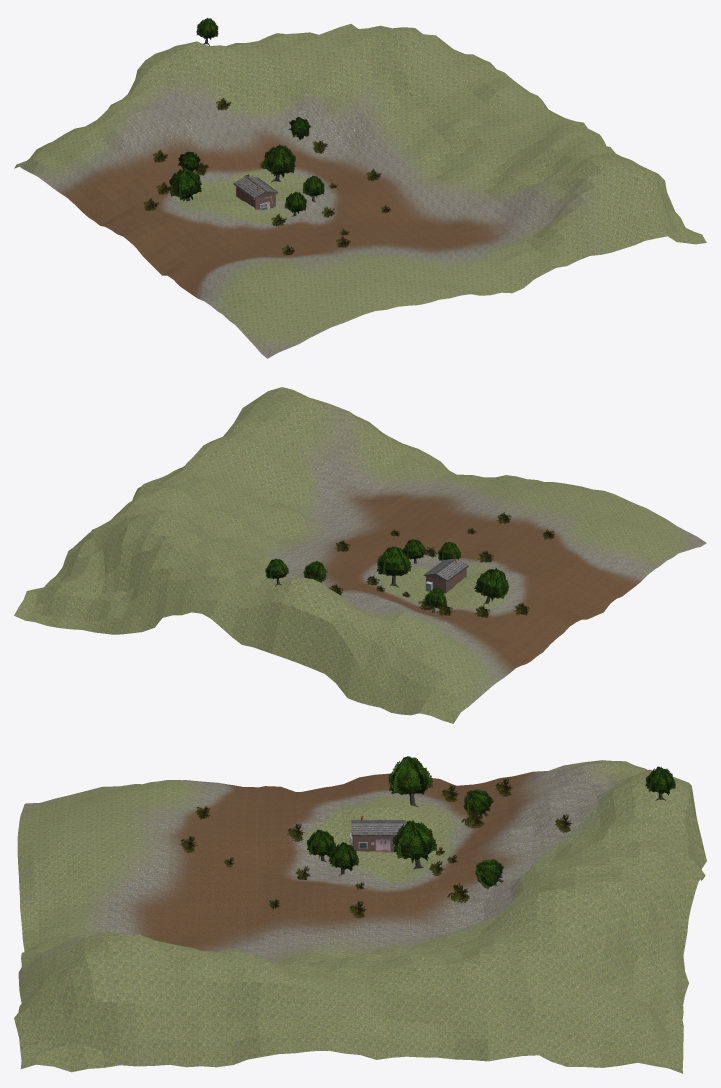
Rendered from level.glb.
3 renders of one model, top to bottom at view 1: azimuth 30°, elevation 25°; view 2: azimuth 150°, elevation 25°; view 3: azimuth 270°, elevation 25°, orthographic. The views are drawn at different scales.
Parts seen in each view (by area): view 1: Plane, tree01_top.001, tree01_top.004, building_01_roof; view 2: Plane, tree01_top.001, tree01_top.004, building_01_roof; view 3: Plane, tree01_top.001, tree01_top.004, building_01_roof, tree01_top.006, tree01_top, tree01_top.005, tree01_top.002, tree01_top.003.
Boxes of the visible parts, box(x1,y1,x2,y2) form: Plane: box(14, 24, 706, 358); tree01_top.001: box(263, 144, 295, 182); tree01_top.004: box(169, 168, 201, 201); building_01_roof: box(234, 176, 277, 198); Plane: box(14, 387, 706, 723); tree01_top.001: box(376, 546, 411, 587); tree01_top.004: box(474, 568, 509, 604); building_01_roof: box(424, 558, 467, 581); Plane: box(14, 760, 706, 1073); tree01_top.001: box(393, 820, 436, 869); tree01_top.004: box(388, 756, 432, 807); building_01_roof: box(351, 820, 405, 835); tree01_top.006: box(645, 766, 675, 800); tree01_top: box(328, 842, 358, 875); tree01_top.005: box(475, 859, 503, 889); tree01_top.002: box(307, 829, 335, 862); tree01_top.003: box(463, 789, 493, 816).
Size of what is drawn, in the model's own units: 105 by 26.31 by 105.
21 materials, 21 textured.
